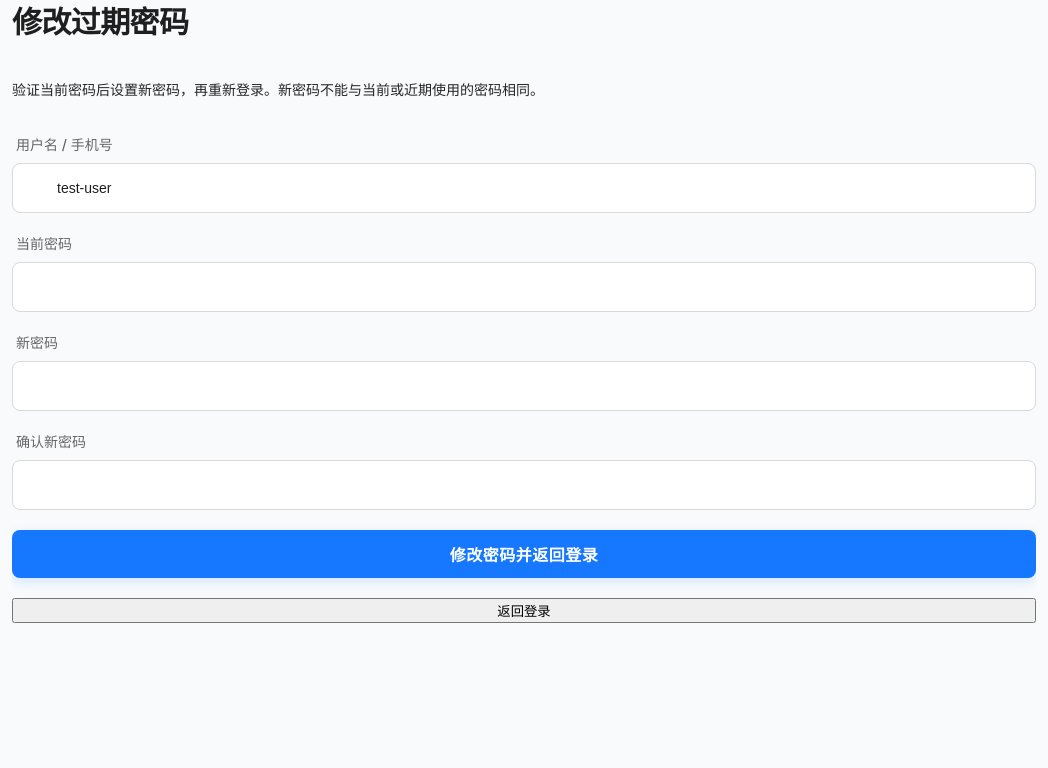
keeps the form open when current-password verification fails
This screenshot has width=1048, height=768.
In the password field labelled "当前密码": (524, 287) [13,263,1035,311], type "wrong-password"
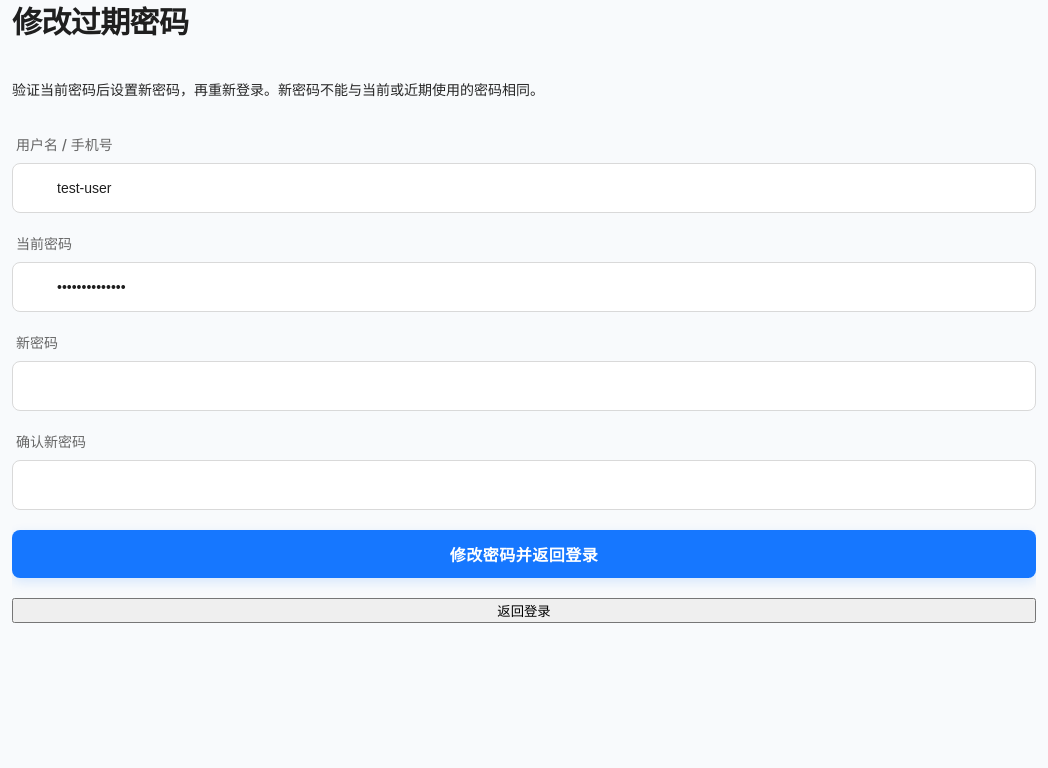
In the password field labelled "新密码": (524, 386) [13,362,1035,410], type "Example2026!"
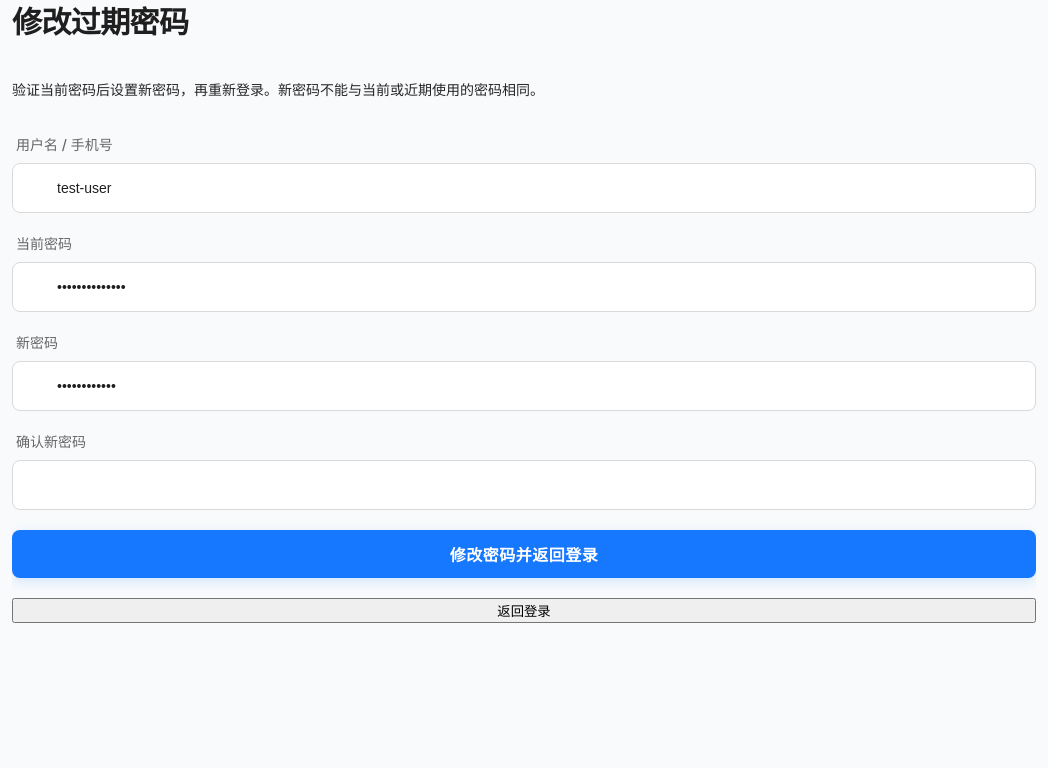
In the password field labelled "确认新密码": (524, 485) [13,461,1035,509], type "Example2026!"
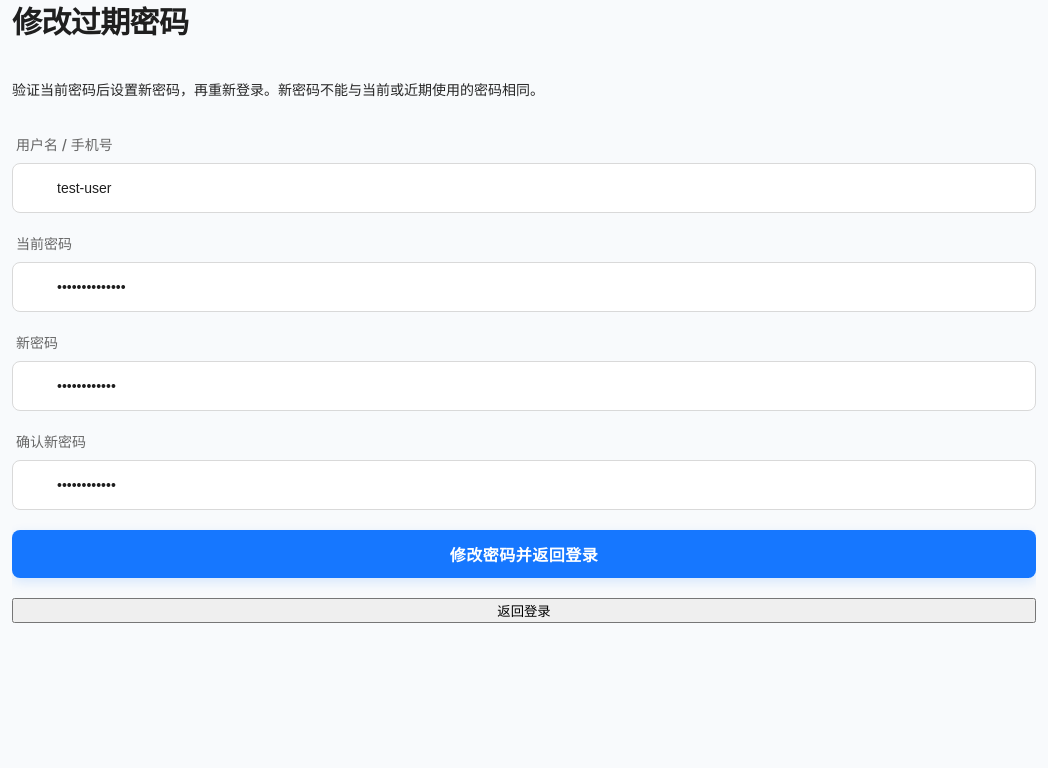
Click the button "修改密码并返回登录": (524, 554) [12,530,1036,578]
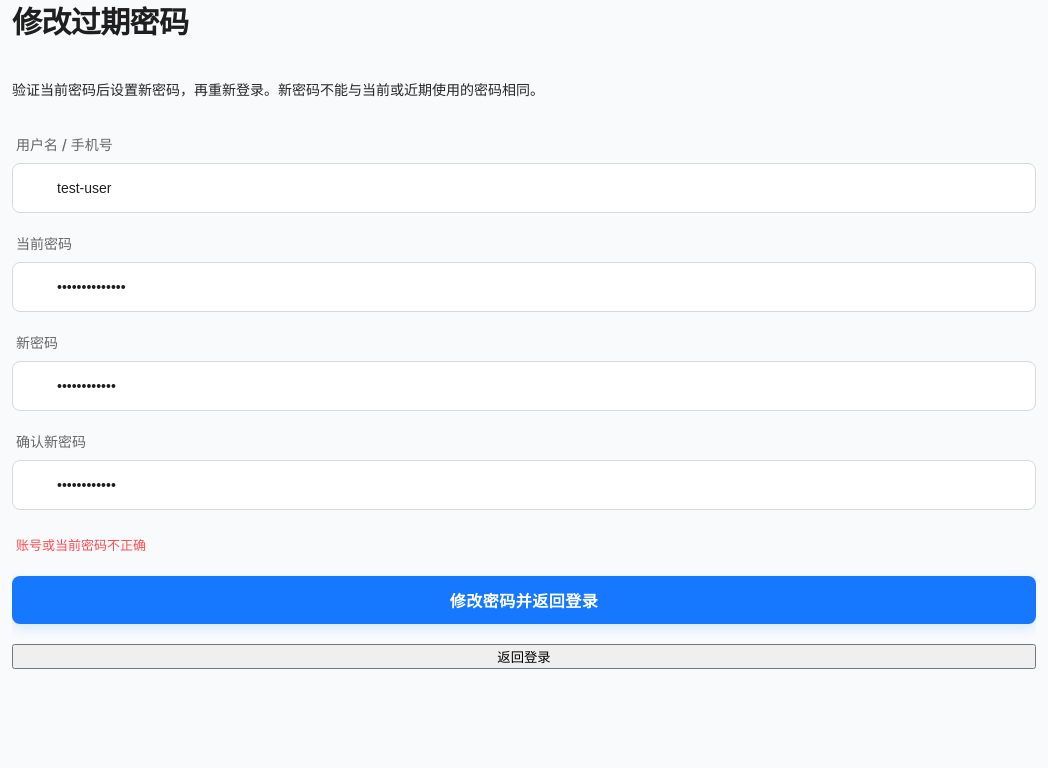
Expected: the message reads "账号或当前密码不正确", [16,537,146,553]
